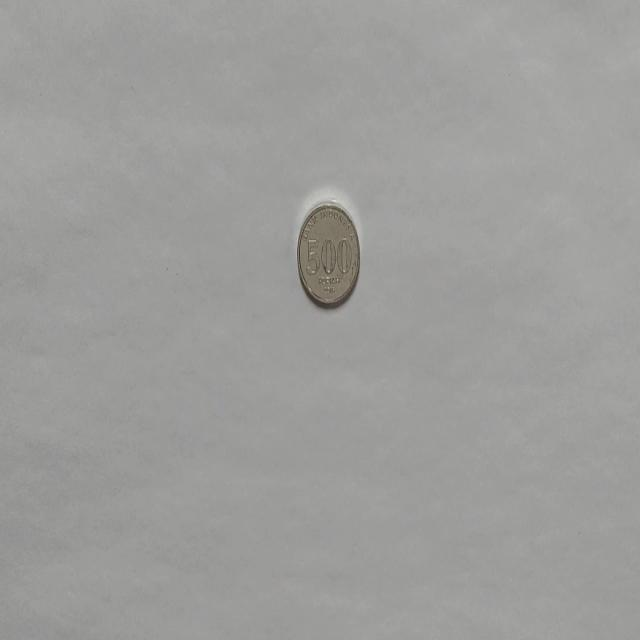lima ratus rupiah: (296, 200, 360, 308)
